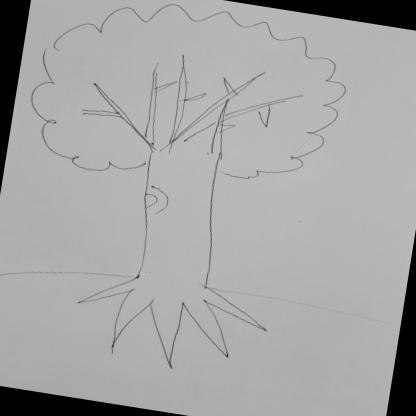branch_sharp: (74, 41, 302, 171)
crown_cloud: (21, 0, 357, 207)
knot: (138, 182, 174, 218)
root_upside: (62, 257, 277, 385)
trunk_straight: (122, 174, 232, 273)
